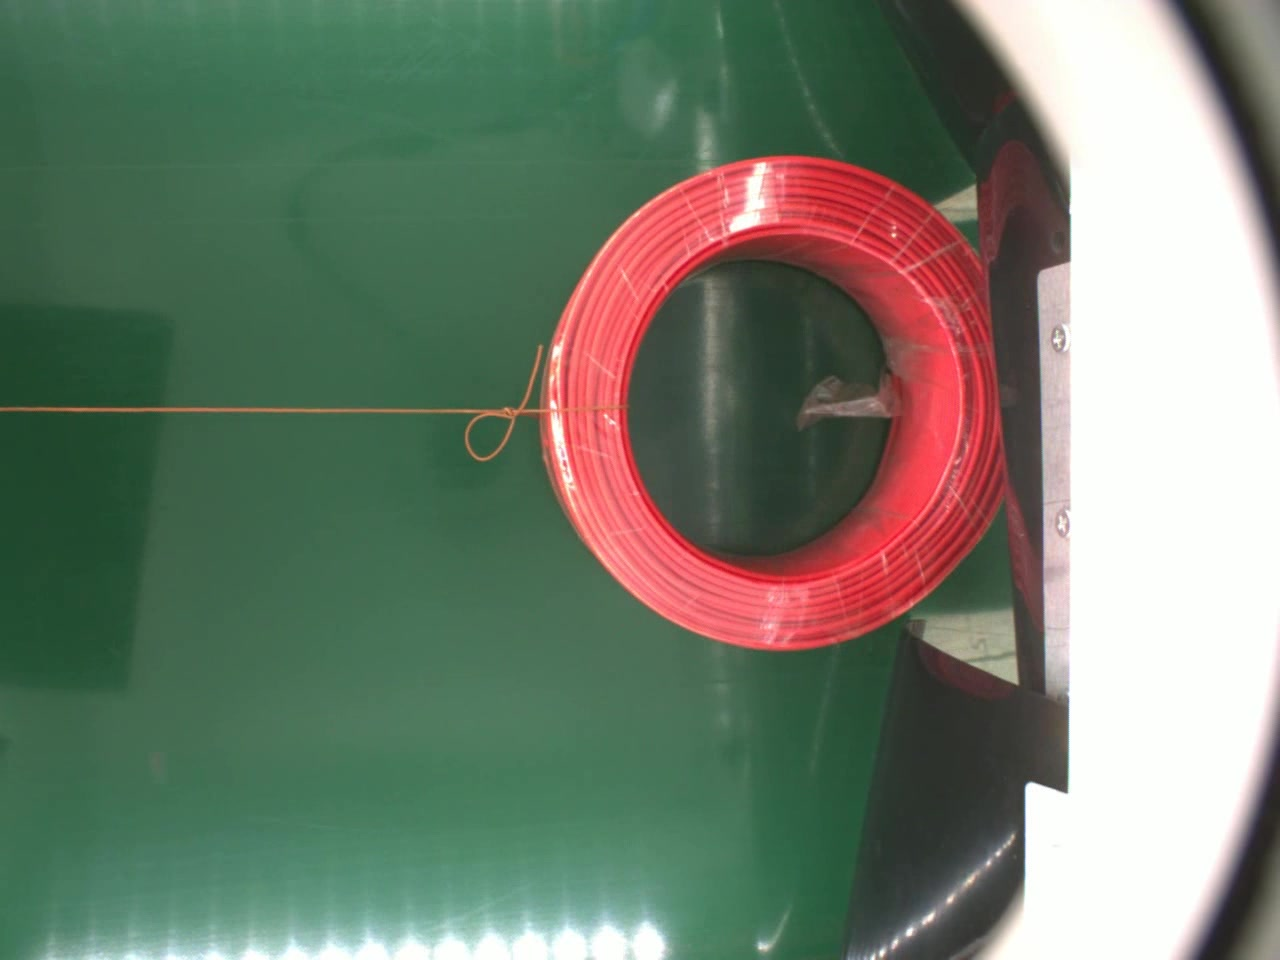red: (539, 152, 1003, 657)
